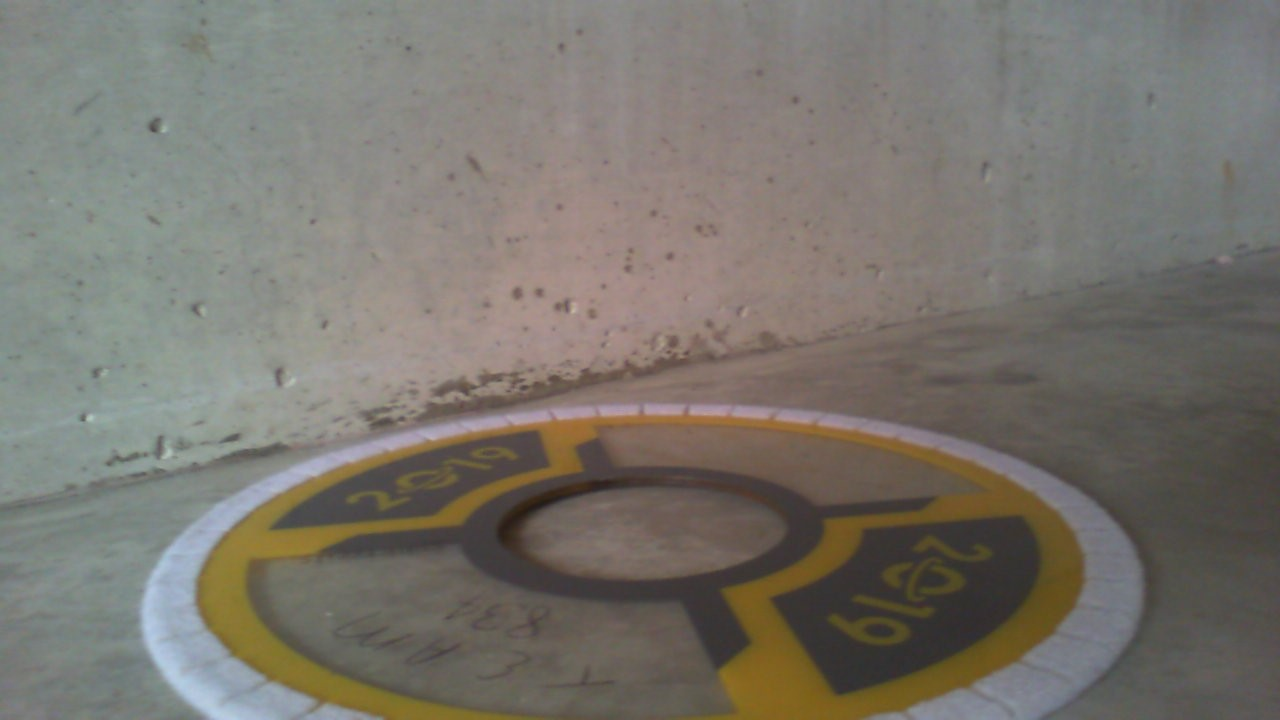Hatch: (138, 402, 1149, 720)
